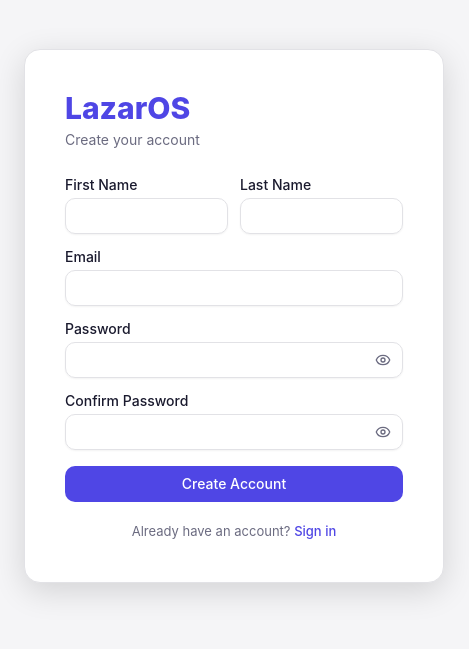
RegisterPage › renders client-side Zod errors inline and does not call the api
Click the button "Create Account": (234, 484) [65,466,403,502]
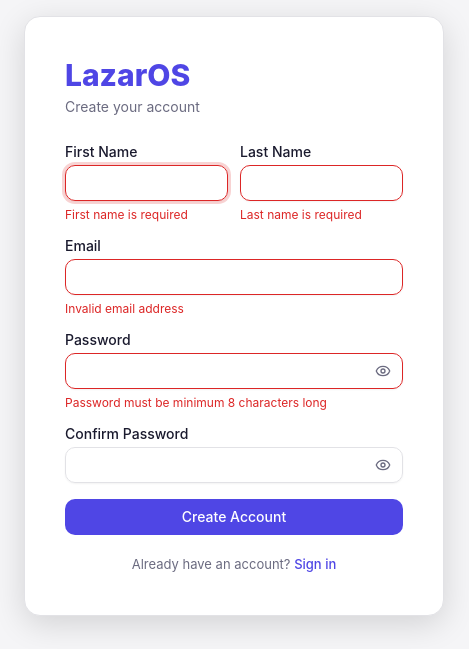
Now the text "First name is required" is shown, box [65,207,188,222]
Now the text "Last name is required" is shown, box [240,207,362,222]
Now the text "Invalid email address" is shown, box [65,301,184,316]
